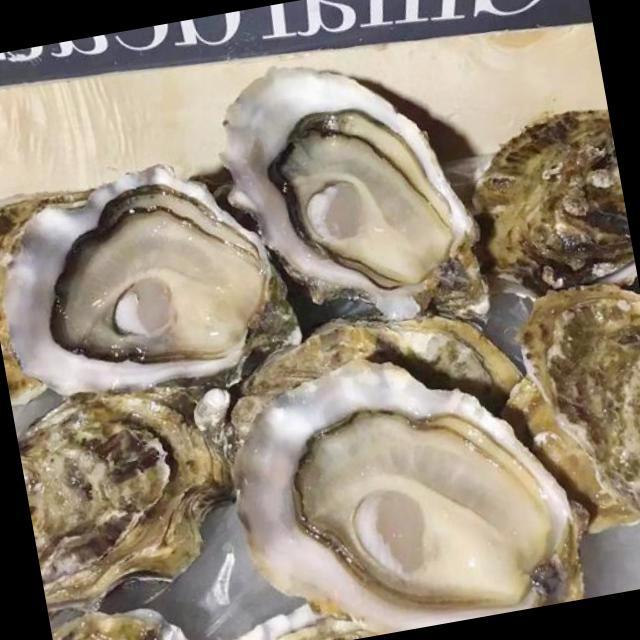Oyster-Closed: (209, 322, 640, 530), (22, 394, 231, 607), (474, 111, 635, 294), (522, 284, 639, 488), (55, 612, 192, 639)
Oyster-Open: (235, 361, 576, 631), (224, 68, 489, 330), (4, 165, 300, 395)
